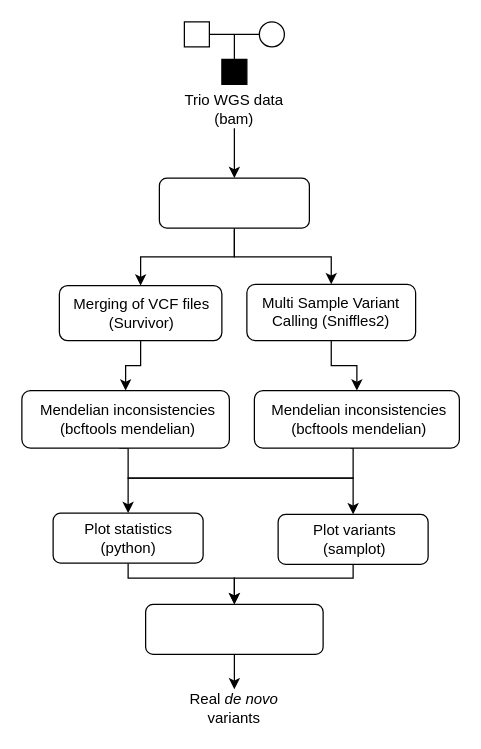
Image size: 481x749. Some labels were removed from this diagram. The shapes that lost their labels are listed below. From the top down, each one's centre as x and y in pixels, then its label:
At [233,202]: "Variant Calling (Sniffles2)".
At [233,628]: "Local assembly of SV regions".
